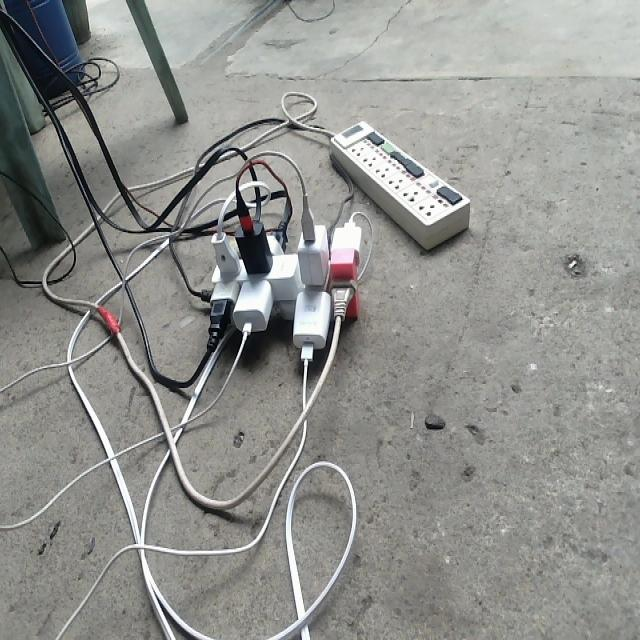-: (196, 172, 363, 355)
